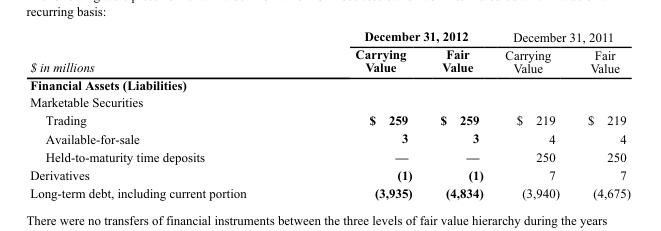table: (29, 28, 630, 199)
table column: (29, 28, 300, 199), (300, 28, 425, 199), (493, 28, 572, 199), (425, 28, 493, 199), (572, 28, 630, 199)
table column header: (29, 28, 630, 76)
table projected row header: (29, 93, 630, 111), (29, 76, 630, 93)
table row: (29, 45, 630, 76), (29, 93, 630, 111), (29, 111, 630, 129), (29, 129, 630, 147), (29, 147, 630, 165), (29, 165, 630, 183), (29, 28, 630, 45), (29, 76, 630, 93), (29, 183, 630, 199)
table spanning cell: (29, 28, 300, 76), (300, 28, 493, 45), (493, 28, 630, 45)
